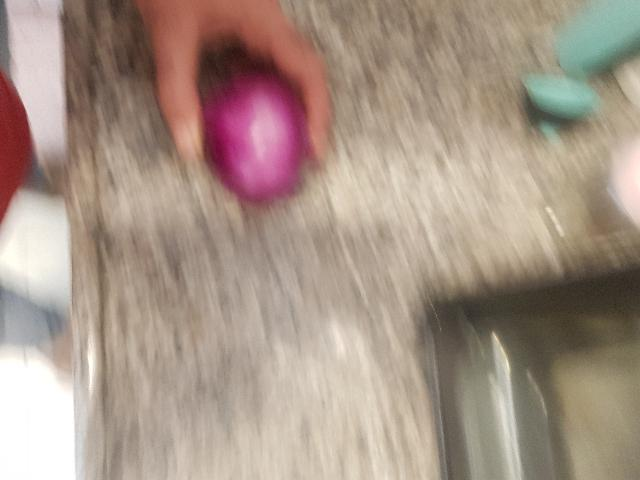onion: (233, 326, 364, 435)
